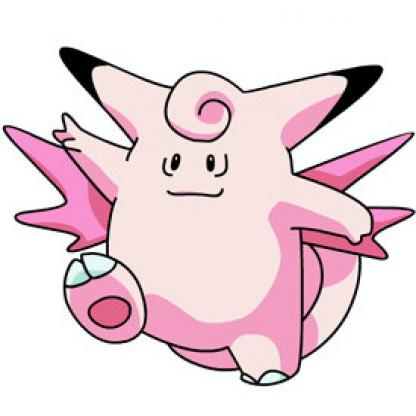Clefable: (3, 24, 416, 389)
